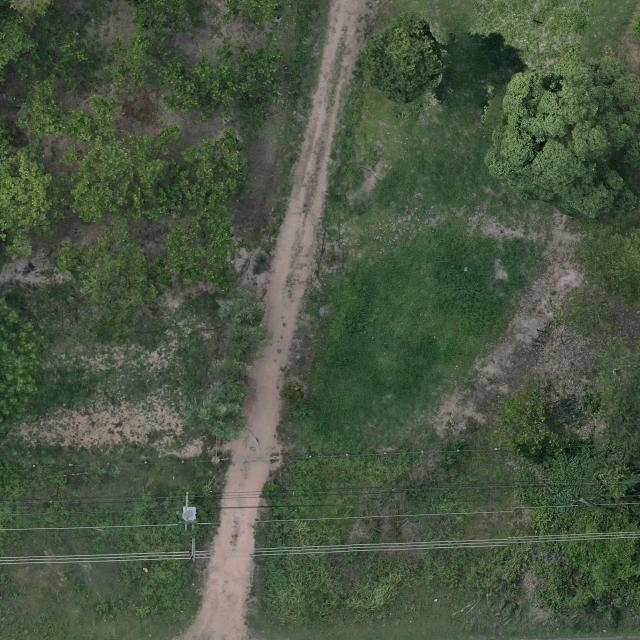Tree: (484, 48, 640, 227), (536, 465, 640, 620), (106, 32, 288, 118), (68, 89, 182, 226), (53, 227, 162, 324), (0, 107, 63, 257), (364, 11, 443, 105), (0, 294, 48, 448), (164, 204, 240, 286), (177, 125, 252, 208), (492, 388, 571, 463)
